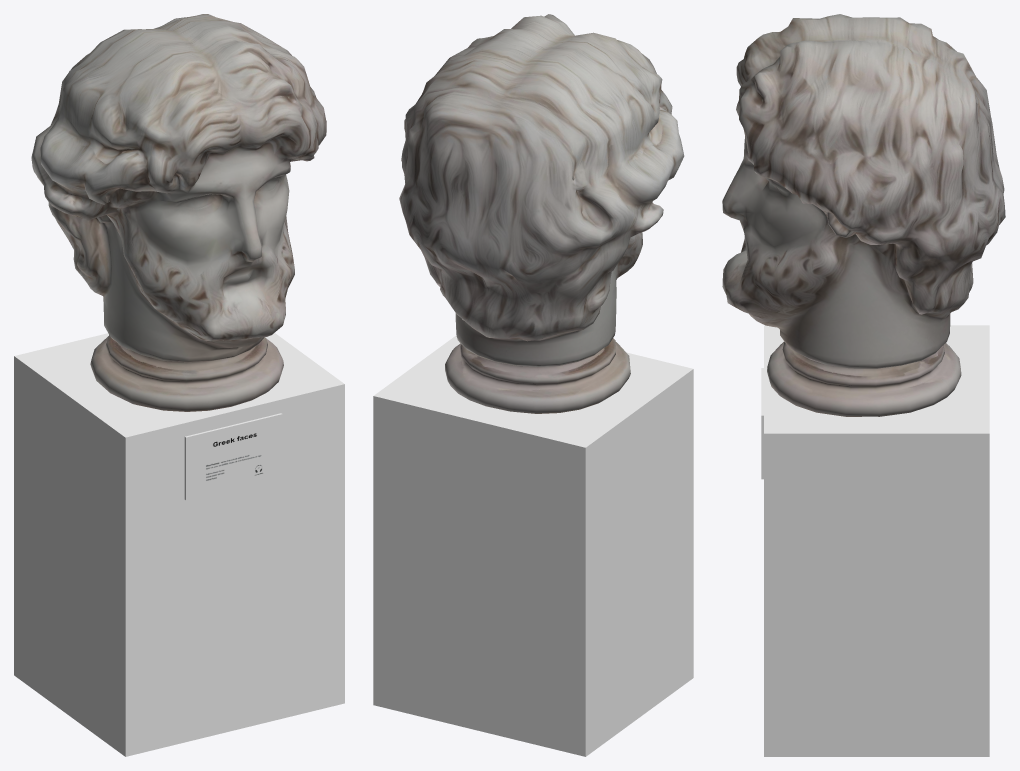
The model's file is Statue 3.fbx.
3 views of the same model, side by side, from view 1: azimuth 30°, elevation 25°; view 2: azimuth 150°, elevation 25°; view 3: azimuth 270°, elevation 25° (orthographic). The views are drawn at different scales.
Parts seen in each view (by area): view 1: Statue 3; view 2: Statue 3; view 3: Statue 3.
Part boxes in pixels (x1=…): Statue 3: x1=14, y1=14, x2=344, y2=756; Statue 3: x1=373, y1=14, x2=693, y2=756; Statue 3: x1=722, y1=14, x2=1005, y2=756.
Bounding box in the file's own units: 73.44 × 183 × 69.57.
